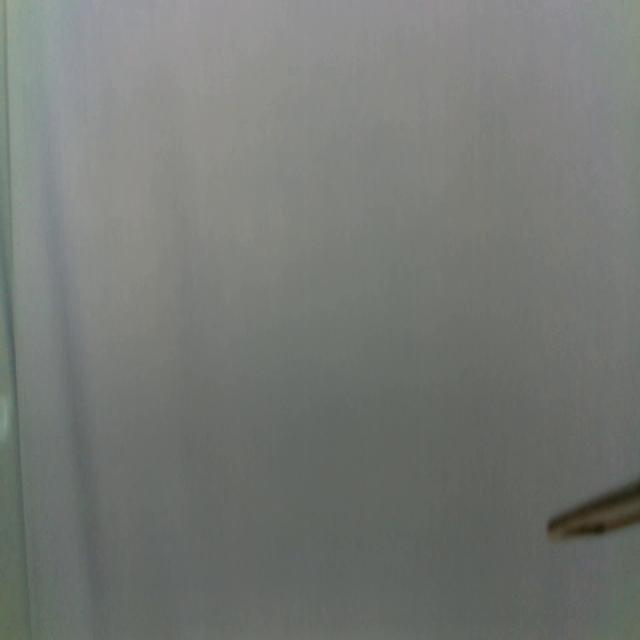crease: (1, 0, 35, 640)
